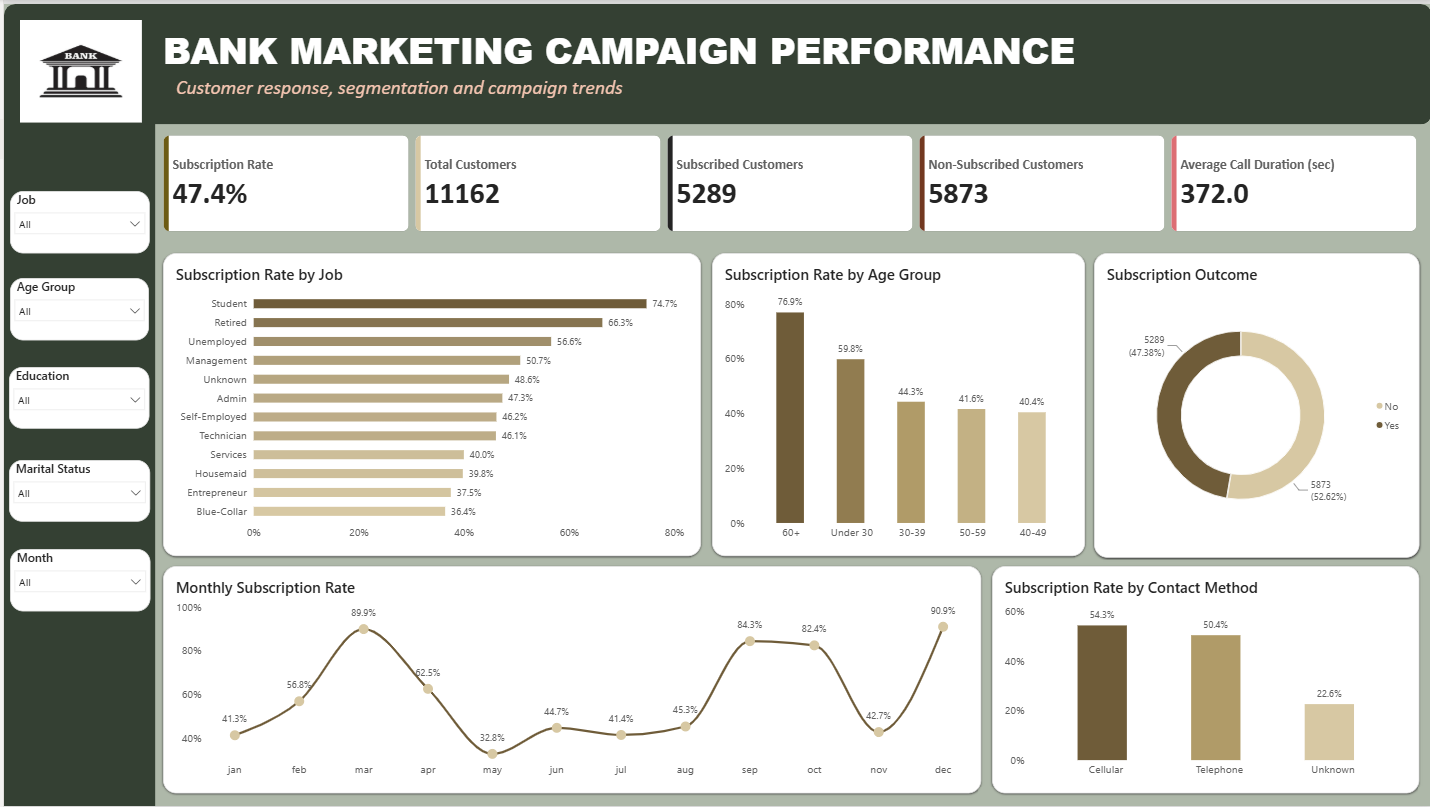

What the dashboard file says about the page in this screenshot:
{"tool":"powerbi","page":{"name":"Page 1","canvas":[1920,1080],"ordinal":0},"visuals":[{"type":"shape","box":[0,0,203.9,1300],"z":0},{"type":"shape","box":[163.6,0,1757,162.3],"z":1000},{"type":"cardVisual","fields":{"Data":["DAX Measures.Subscription Rate %","DAX Measures.Total Customers","DAX Measures.Subscribed Customers","DAX Measures.Non-Subscribed Customers","DAX Measures.Avg Call Duration"]},"box":[214.1,176.9,1690.5,130.3],"z":2000},{"type":"donutChart","title":"Subscription Outcome","fields":{"Category":["bank.deposit"],"Y":["DAX Measures.Total Customers"]},"box":[1467,335.2,437.6,409.7],"z":3000},{"type":"clusteredBarChart","title":"Subscription Rate by Job","fields":{"Category":["bank.job"],"Y":["DAX Measures.Subscription Rate %"]},"box":[214.1,335.2,723.5,408.3],"z":4000},{"type":"columnChart","title":"Subscription Rate by Age Group","fields":{"Category":["bank.Age Group"],"Y":["DAX Measures.Subscription Rate %"]},"box":[952.6,335.1,502.1,408.2],"z":5000},{"type":"lineChart","title":"Monthly Subscription Rate","fields":{"Category":["Month Table.Month"],"Y":["DAX Measures.Subscription Rate %"]},"box":[214.1,756.8,1101.3,305.9],"z":6000},{"type":"columnChart","title":"Subscription Rate by Contact Method","fields":{"Category":["bank.contact"],"Y":["DAX Measures.Subscription Rate %"]},"box":[1329.9,756.7,575.3,306.2],"z":7000},{"type":"slicer","fields":{"Values":["bank.job"]},"box":[8,251.4,187.5,83.8],"z":8000},{"type":"slicer","fields":{"Values":["bank.Age Group"]},"box":[8,369.1,187.4,84],"z":9000},{"type":"slicer","fields":{"Values":["bank.education"]},"box":[6.9,488.6,189.1,83.4],"z":10000},{"type":"slicer","fields":{"Values":["bank.marital"]},"box":[6.9,613.1,189.7,83.4],"z":11000},{"type":"slicer","fields":{"Values":["bank.month"]},"box":[7.4,733.1,188.6,84],"z":12000},{"type":"textbox","box":[214.1,27.9,1239.6,67.8],"z":13000},{"type":"textbox","box":[231.4,95.8,935,49.2],"z":14000},{"type":"image","box":[21.3,21.3,163.6,138.3],"z":14001}]}

Visuals, with their boxes in screenshot pixels (x1, y1, x2, y2), scaled from the page's 1920x1080 canvas onto the 1430x807 screenshot:
shape: box=[0, 0, 152, 806]
shape: box=[122, 0, 1429, 121]
cardVisual - DAX Measures.Subscription Rate % x DAX Measures.Total Customers: box=[159, 132, 1419, 230]
"Subscription Outcome" donutChart: box=[1093, 250, 1419, 557]
"Subscription Rate by Job" clusteredBarChart: box=[159, 250, 698, 556]
"Subscription Rate by Age Group" columnChart: box=[709, 250, 1083, 555]
"Monthly Subscription Rate" lineChart: box=[159, 565, 980, 794]
"Subscription Rate by Contact Method" columnChart: box=[990, 565, 1419, 794]
slicer - bank.job: box=[6, 188, 146, 250]
slicer - bank.Age Group: box=[6, 276, 146, 339]
slicer - bank.education: box=[5, 365, 146, 427]
slicer - bank.marital: box=[5, 458, 146, 520]
slicer - bank.month: box=[6, 548, 146, 611]
textbox: box=[159, 21, 1083, 72]
textbox: box=[172, 72, 869, 108]
image: box=[16, 16, 138, 119]
